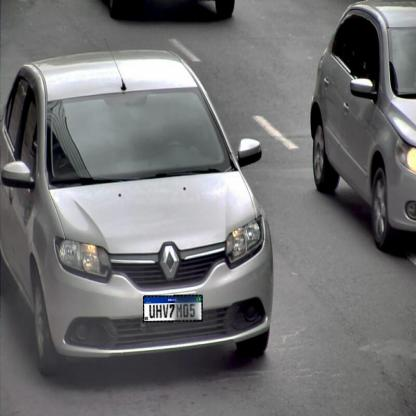PlacaM: (143, 295, 203, 322)
